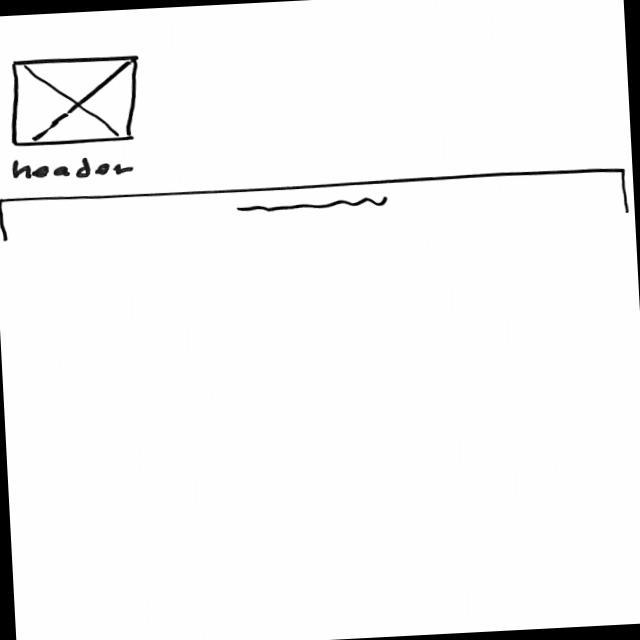image: (8, 52, 147, 150)
label: (6, 151, 140, 186)
text: (235, 193, 392, 220)
